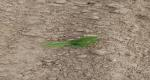bodyak: (41, 36, 101, 49)
